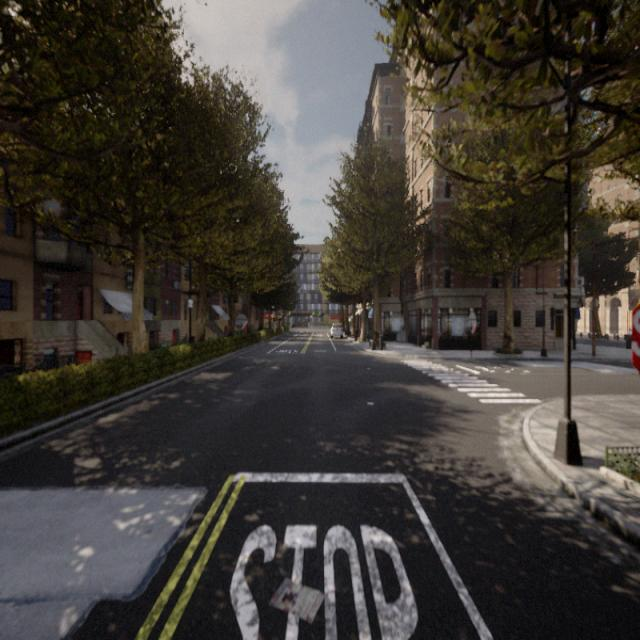stop sign: (628, 298, 638, 374)
